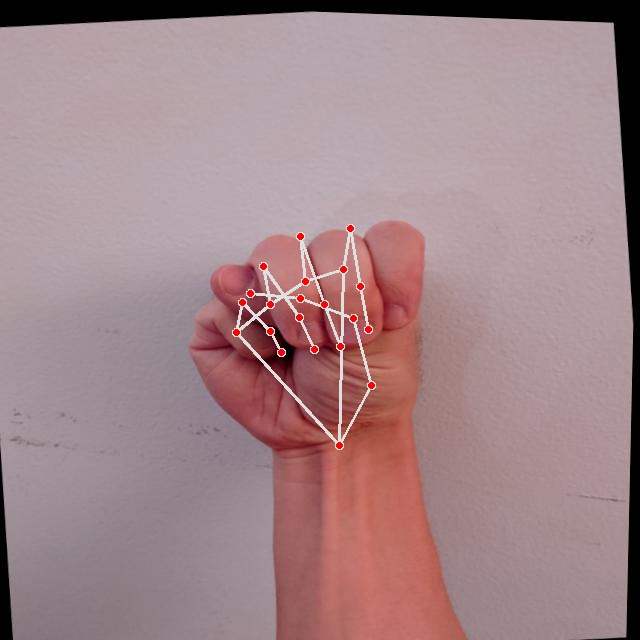M: (167, 194, 458, 470)
